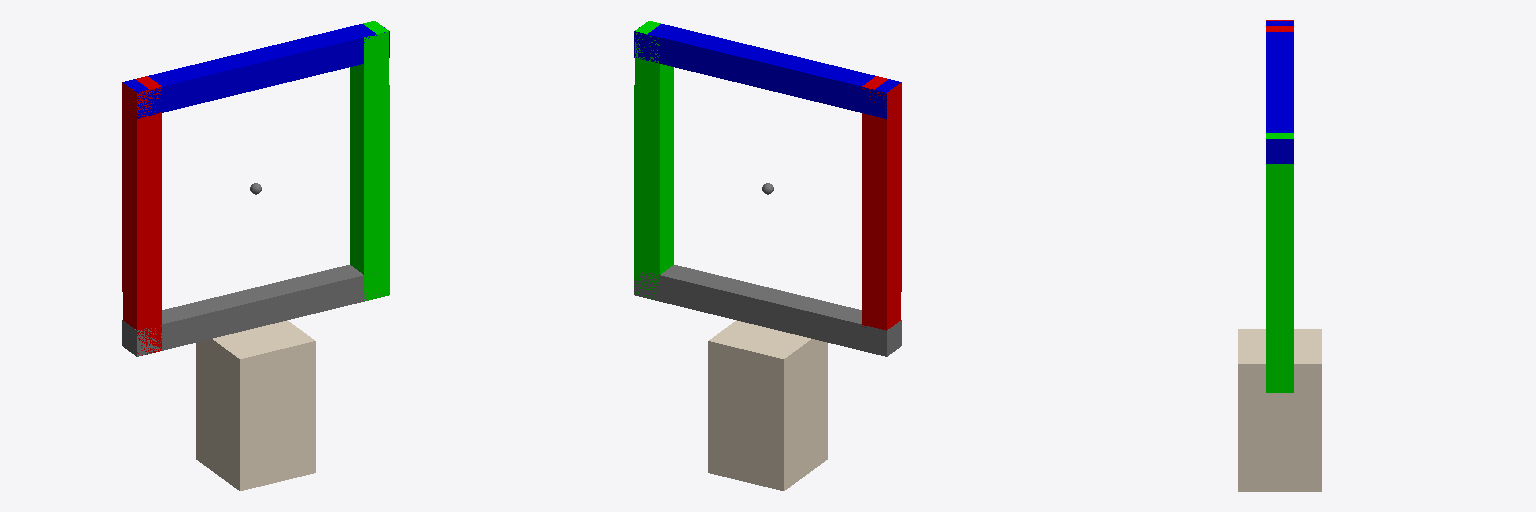
robot.urdf — architrave:
<?xml version="1.0" ?>

<robot name="architrave">

  <link name="base_link"> 
    <inertial>
      <mass value="0.1"/>
      <inertia ixx="0" ixy="0.0" ixz="0.0" iyy="0" iyz="0.0" izz="0"/>
    </inertial>
    <visual>
      <origin rpy="0 0 0" xyz="0 0 0"/>
      <geometry>
        <sphere radius="0.01"/>
      </geometry> 
      <material name="grey">
        <color rgba=".5 .5 .5 1"/>
      </material> 
    </visual>
  </link>



  <link name="grey_edge"> 
    <inertial>
      <origin rpy="0 0 0" xyz="0 0 -0.225"/>
      <mass value="0.25"/>
      <inertia ixx="0" ixy="0.0" ixz="0.0" iyy="0" iyz="0.0" izz="0"/>
    </inertial>
    <visual>
      <origin rpy="0 0 0" xyz="0 0 -0.225"/>
      <geometry>
        <box size=".5 .05 .05" />
      </geometry> 
      <material name="grey">
        <color rgba=".5 .5 .5 1"/>
      </material> 
    </visual>
    <collision>
      <origin rpy="0 0 0" xyz="0 0 -0.225"/>
      <geometry>
        <box size=".5 .05 .05" />
      </geometry>
    </collision>  
  </link>
  <joint name="grey_joint" type="fixed">
    <parent link="base_link"/>
    <child link="grey_edge"/>
  </joint>



  <link name="blue_edge"> 
    <inertial>
      <origin rpy="0 0 0" xyz="0 0 0.225"/>
      <mass value="0.25"/>
      <inertia ixx="0" ixy="0.0" ixz="0.0" iyy="0" iyz="0.0" izz="0"/>
    </inertial>
    <visual>
      <origin rpy="0 0 0" xyz="0 0 0.225"/>
      <geometry>
        <box size=".5 .05 .05" />
      </geometry> 
      <material name="blue">
        <color rgba=".0 .0 .9 1"/>
      </material> 
    </visual>
    <collision>
      <origin rpy="0 0 0" xyz="0 0 0.225"/>
      <geometry>
        <box size=".5 .05 .05" />
      </geometry>
    </collision>  
  </link>
  <joint name="blue_joint" type="fixed">
    <parent link="base_link"/>
    <child link="blue_edge"/>
  </joint>



  <link name="green_edge"> 
    <inertial>
      <origin rpy="0 1.57 0" xyz="0.225 0 0"/>
      <mass value="0.25"/>
      <inertia ixx="0" ixy="0.0" ixz="0.0" iyy="0" iyz="0.0" izz="0"/>
    </inertial>
    <visual>
      <origin rpy="0 1.57 0" xyz="0.225 0 0"/>
      <geometry>
        <box size=".5 .05 .05" />
      </geometry> 
      <material name="green">
        <color rgba=".0 .9 .0 1"/>
      </material> 
    </visual>
    <collision>
      <origin rpy="0 1.57 0" xyz="0.225 0 0"/>
      <geometry>
        <box size=".5 .05 .05" />
      </geometry>
    </collision>  
  </link>
  <joint name="green_joint" type="fixed">
    <parent link="base_link"/>
    <child link="green_edge"/>
  </joint>



  <link name="red_edge"> 
    <inertial>
      <origin rpy="0 1.57 0" xyz="-0.225 0 0"/>
      <mass value="0.25"/>
      <inertia ixx="0" ixy="0.0" ixz="0.0" iyy="0" iyz="0.0" izz="0"/>
    </inertial>
    <visual>
      <origin rpy="0 1.57 0" xyz="-0.225 0 0"/>
      <geometry>
        <box size=".5 .05 .05" />
      </geometry> 
      <material name="red">
        <color rgba=".9 .0 .0 1"/>
      </material> 
    </visual>
    <collision>
      <origin rpy="0 1.57 0" xyz="-0.225 0 0"/>
      <geometry>
        <box size=".5 .05 .05" />
      </geometry>
    </collision>  
  </link>
    <joint name="red_joint" type="fixed">
    <parent link="base_link"/>
    <child link="red_edge"/>
  </joint>


  <link name="box_link"> 

    <inertial>
      <origin rpy="0 0 0" xyz="0 0 -0.4"/>
      <mass value="1."/>
      <inertia ixx="0" ixy="0.0" ixz="0.0" iyy="0" iyz="0.0" izz="0"/>
    </inertial>

    <visual>
      <origin rpy="0 0 0" xyz="0 0 -0.4"/>
      <geometry>
        <box size=".15 .15 .25" />
      </geometry> 
      <material name="brown">
        <color rgba=".92 .87 .79 1"/>
      </material> 
    </visual>

    <collision>
      <origin rpy="0 0 0" xyz="0 0 -0.4"/>
      <geometry>
        <box size=".15 .15 .25" />
      </geometry>
    </collision>   

  </link>
    <joint name="box_joint" type="fixed">
    <parent link="base_link"/>
    <child link="box_link"/>
  </joint>

</robot>

--- What the picture shows (computed from the rendered views, not written in the file) ---
Views: 3 orthographic renders of the robot side by side, from view 1: azimuth 30°, elevation 25°; view 2: azimuth 150°, elevation 25°; view 3: azimuth 270°, elevation 25°.
Robot: architrave — 6 links, 5 joints (5 fixed); root link base_link; default pose: every joint at zero.
Visible links, largest first — view 1: box_link, green_edge, red_edge, blue_edge, grey_edge; view 2: box_link, blue_edge, grey_edge, red_edge, green_edge; view 3: box_link, green_edge, blue_edge.
Boxes of the visible links, x1,y1,x2,y2 form: box_link: (196, 320, 315, 490); green_edge: (350, 21, 389, 300); red_edge: (122, 76, 161, 355); blue_edge: (123, 24, 389, 118); grey_edge: (122, 265, 384, 356); box_link: (708, 320, 827, 490); blue_edge: (634, 24, 900, 118); grey_edge: (634, 265, 901, 356); red_edge: (862, 76, 901, 330); green_edge: (634, 21, 673, 299); box_link: (1238, 329, 1321, 491); green_edge: (1266, 133, 1293, 392); blue_edge: (1266, 21, 1293, 163).
Size in the robot's own frame: 0.5004 by 0.15 by 0.775 metres.
Geometry: primitives only (box / cylinder / sphere), no mesh files.